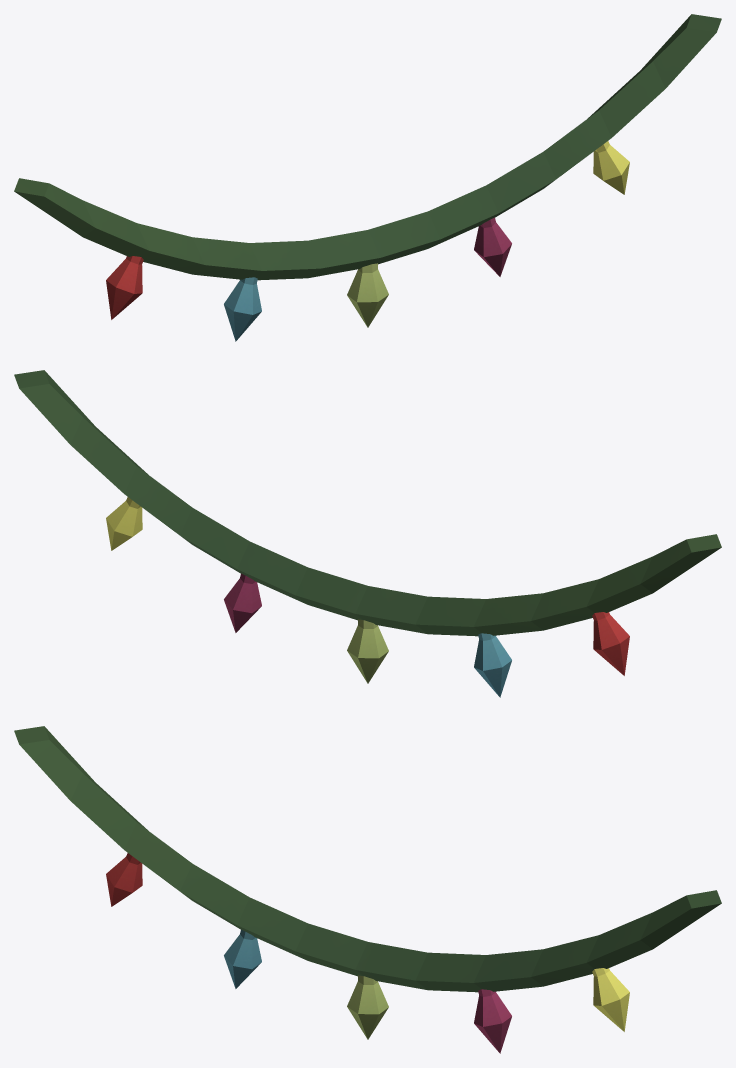
File: Christmas_Light_Rope_Curved.obj
3 views of the same model, one above another, from view 1: azimuth 30°, elevation 25°; view 2: azimuth 150°, elevation 25°; view 3: azimuth 330°, elevation 25° (orthographic).
Parts seen in each view (by area): view 1: Christmas_Light_Rope_Curved; view 2: Christmas_Light_Rope_Curved; view 3: Christmas_Light_Rope_Curved.
Boxes of the visible parts, box(x1,y1,x2,y2) form: Christmas_Light_Rope_Curved: box(14, 14, 721, 341); Christmas_Light_Rope_Curved: box(14, 370, 721, 697); Christmas_Light_Rope_Curved: box(14, 726, 721, 1053).
Size of the model in its own units: 2.22 by 0.6673 by 0.137.
